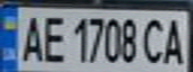0: (103, 15, 124, 64)
1: (66, 12, 87, 63)
7: (84, 13, 106, 64)
8: (118, 15, 142, 64)
A: (160, 14, 190, 66), (15, 11, 45, 63)
C: (139, 15, 169, 65)
E: (39, 11, 69, 64)
